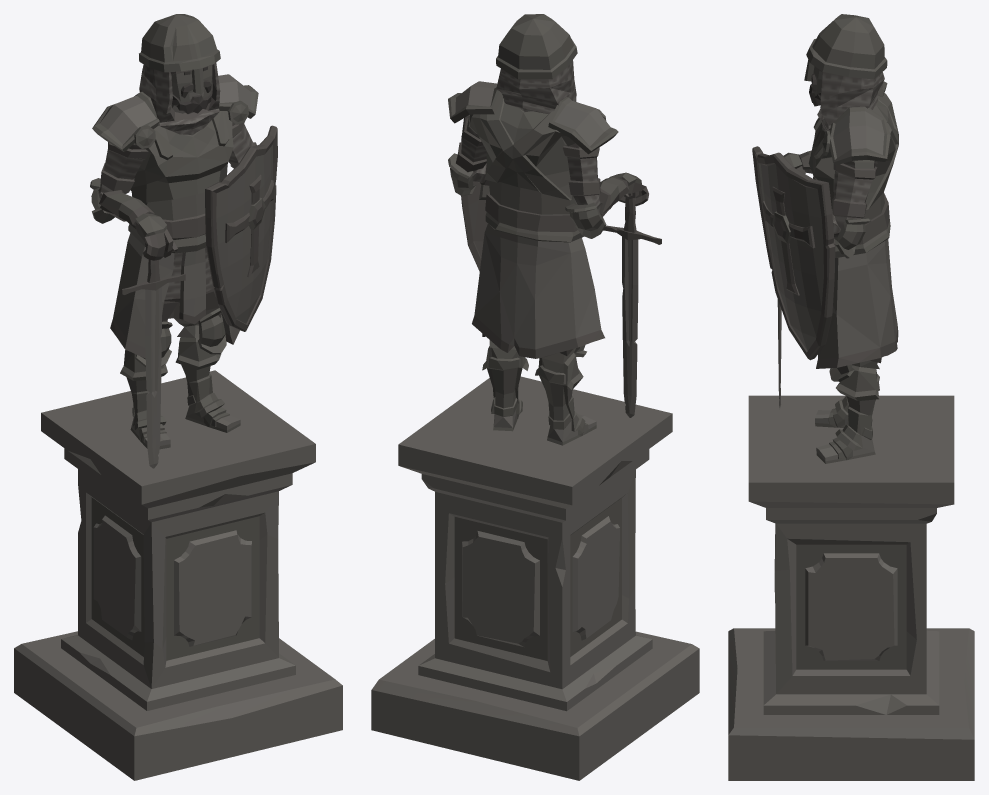
File: castle_statue.gltf
3 views of the same model, side by side, from view 1: azimuth 30°, elevation 25°; view 2: azimuth 150°, elevation 25°; view 3: azimuth 270°, elevation 25° (orthographic). The views are drawn at different scales.
Parts seen in each view (by area): view 1: castle_statue; view 2: castle_statue; view 3: castle_statue.
Part boxes in pixels (<box>): castle_statue: <box>14,14,342,780</box>; castle_statue: <box>371,14,699,780</box>; castle_statue: <box>728,14,974,780</box>.
Bounding box in the file's own units: 1.44 × 4.6 × 1.44.
Materials: 1 (1 with a texture image).
